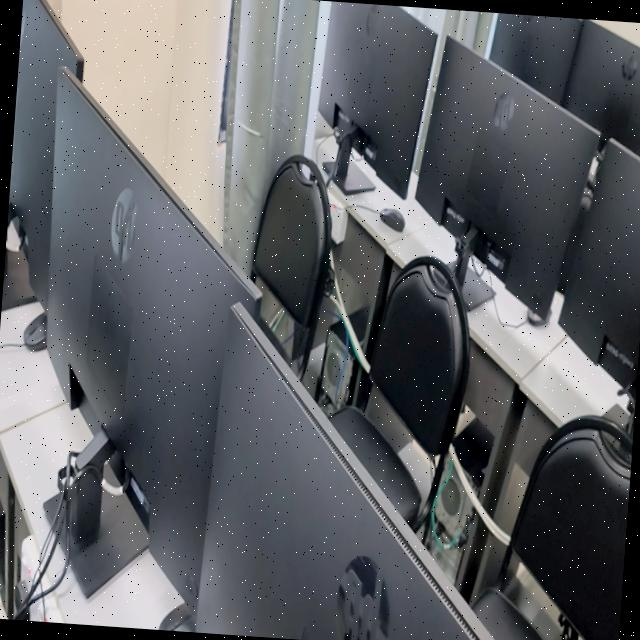Chair: (327, 254, 469, 530), (472, 414, 633, 640), (249, 153, 330, 379)
Monitor: (46, 71, 259, 605), (195, 303, 494, 640), (414, 37, 598, 315), (318, 0, 436, 197), (8, 0, 81, 310), (557, 142, 640, 397), (561, 18, 640, 155), (488, 12, 580, 103)
Mouse: (157, 601, 194, 632), (22, 311, 46, 348), (379, 207, 404, 230)
